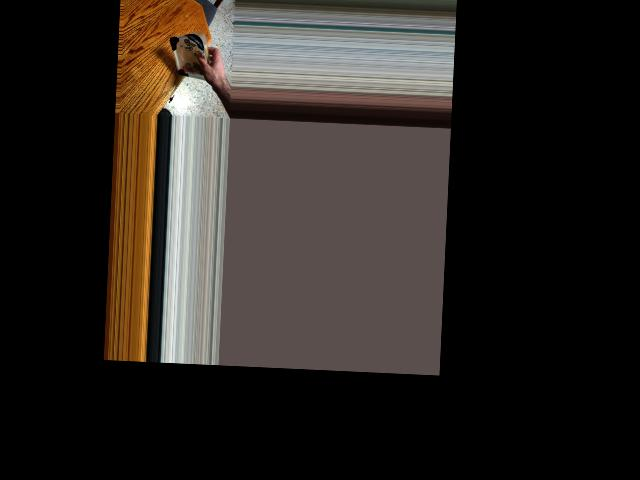cheese: (172, 29, 209, 82)
